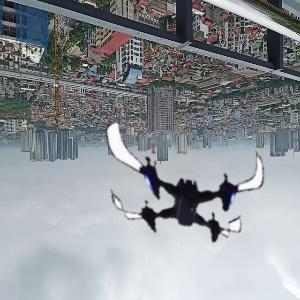drone: (109, 107, 271, 269)
